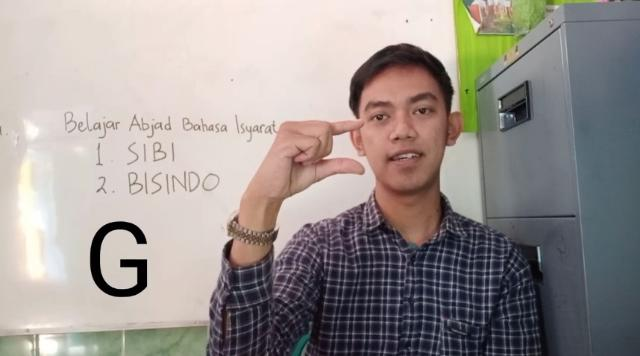G: (255, 118, 368, 198)
